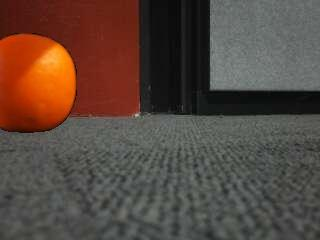Orange: (0, 28, 79, 138)
